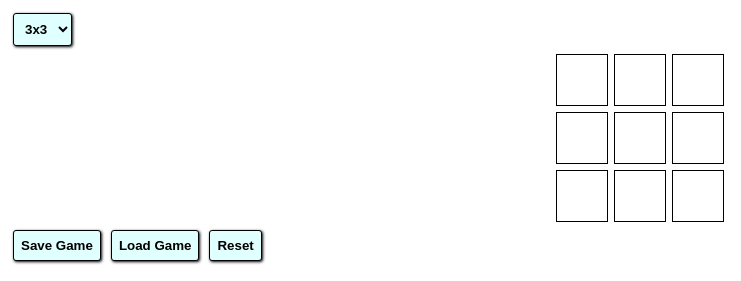
it: Board Component: › should reset grid
Click the element with test id "0-0". click: point(582, 80)
box: [556,54,608,106]
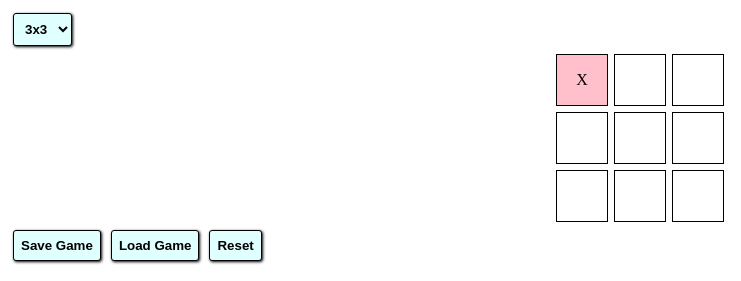
Result: the text with test id "0-0" reads "X" at [576,71,588,88]
Click the button with test id "resetBtn". click: point(236, 246)
box: [210,230,262,261]
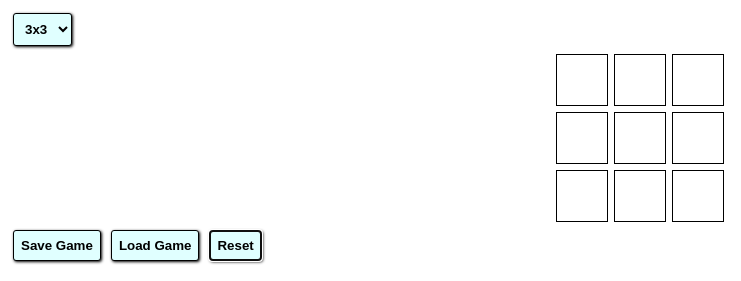
Result: the element with test id "0-0" is empty at [556,54,608,106]
